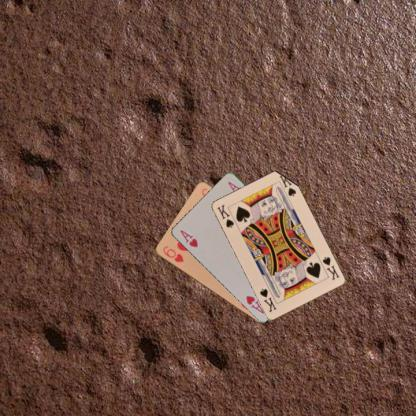6h: (160, 244, 184, 264)
Ah: (177, 228, 199, 248)
Ks: (214, 202, 235, 229), (320, 254, 340, 282)
